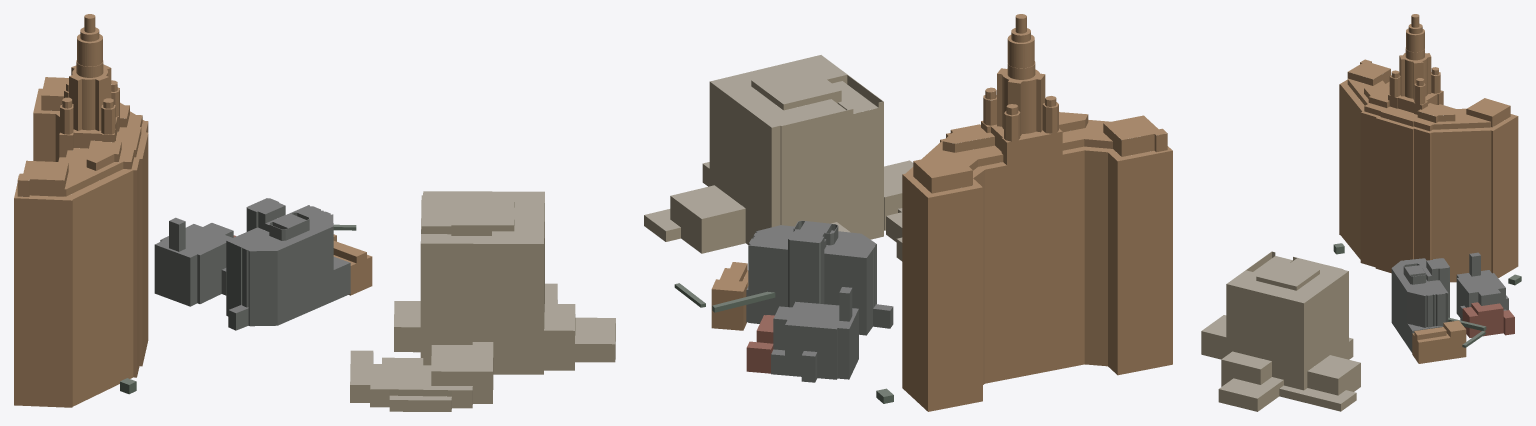
Rendered from tile--3_10.glb.
The picture shows the model from 3 angles, left to right: view 1: azimuth 30°, elevation 25°; view 2: azimuth 150°, elevation 25°; view 3: azimuth 270°, elevation 25°; orthographic projection. The views are drawn at different scales.
Visible parts, largest first — view 1: wall, roof; view 2: wall, roof; view 3: wall, roof.
Part boxes in pixels (x1=…): wall: x1=14, y1=17, x2=615, y2=411; roof: x1=14, y1=14, x2=615, y2=400; wall: x1=644, y1=17, x2=1172, y2=411; roof: x1=644, y1=14, x2=1172, y2=396; wall: x1=1201, y1=16, x2=1521, y2=411; roof: x1=1202, y1=14, x2=1521, y2=403.
Size of the model in its own units: 278 by 172 by 201.
